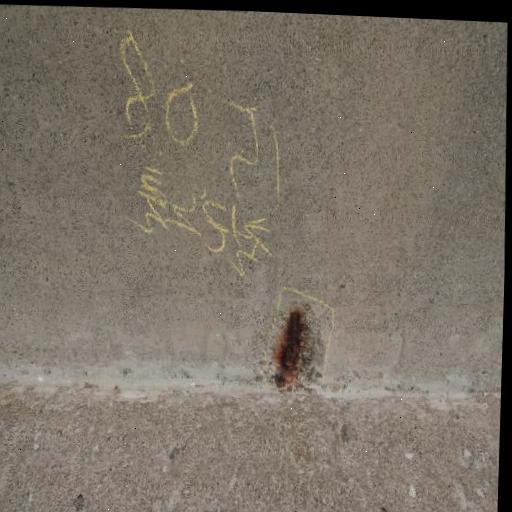exposed_rebar: (273, 314, 302, 387)
